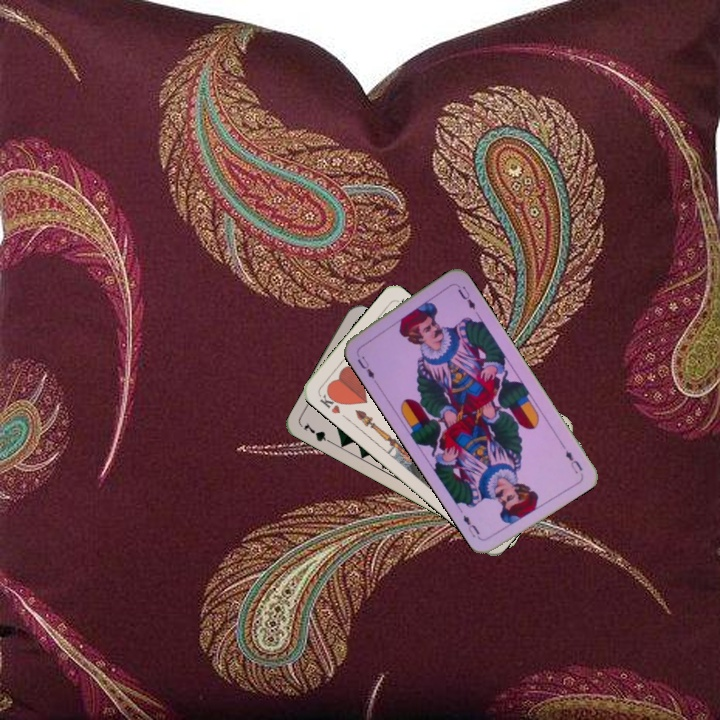EU: (557, 440, 585, 476), (353, 352, 379, 385)
G7: (299, 418, 337, 447)
HK: (315, 387, 345, 416)
